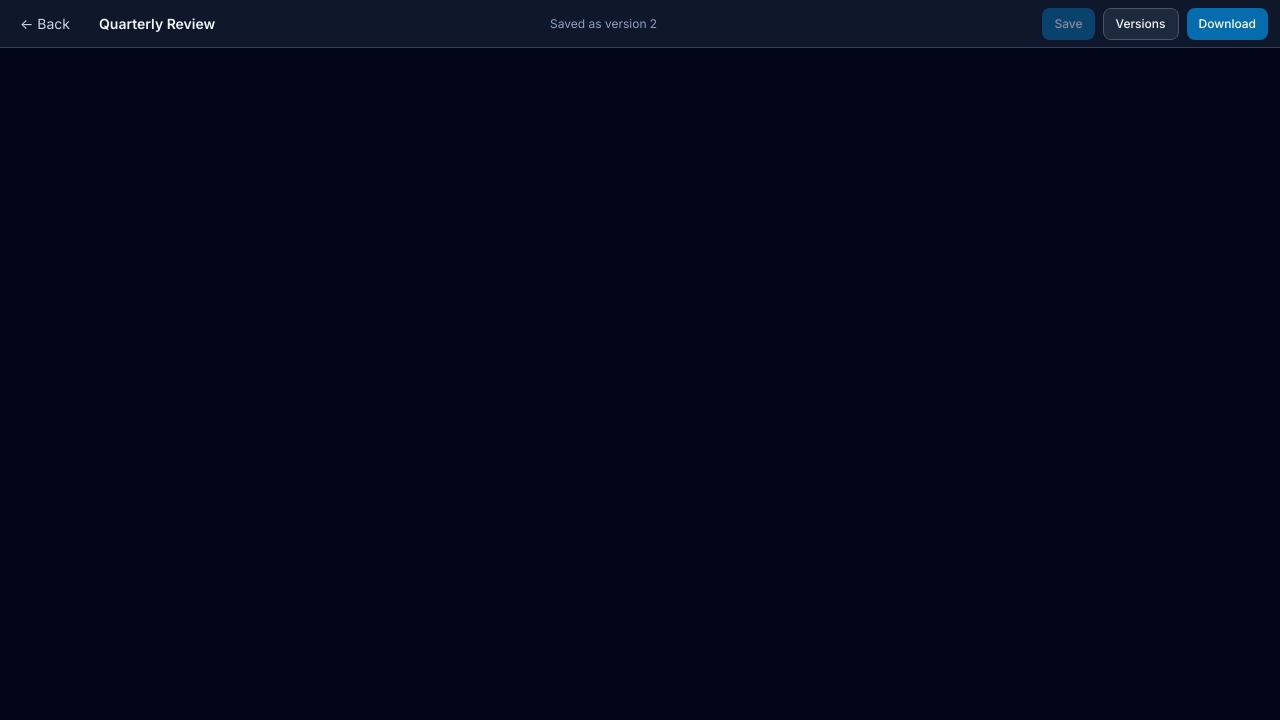
EditorPage › keeps the version dialog open and reports restore failures
The width and height of the screenshot is (1280, 720).
Click the button "Versions" at {"x": 1140, "y": 24}, box [1102,8,1178,40]
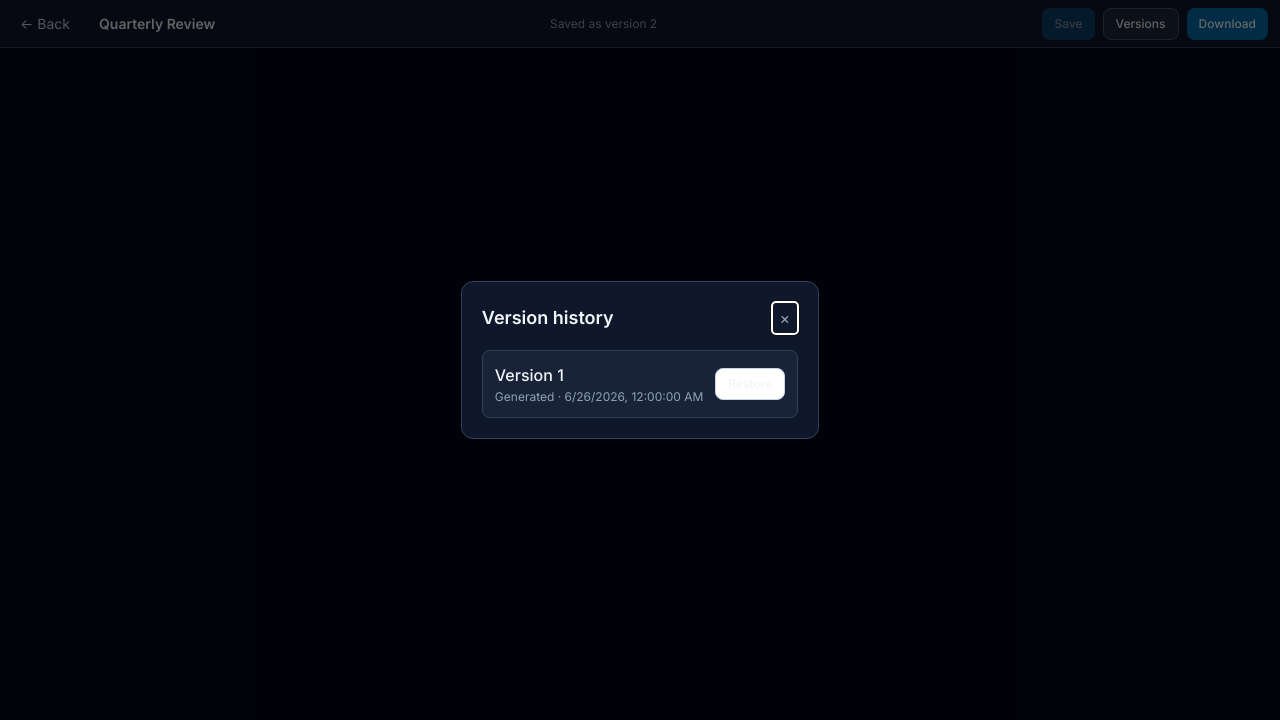
Click the button with aria-label "Restore version 1" at {"x": 750, "y": 384}, box [715,368,785,400]
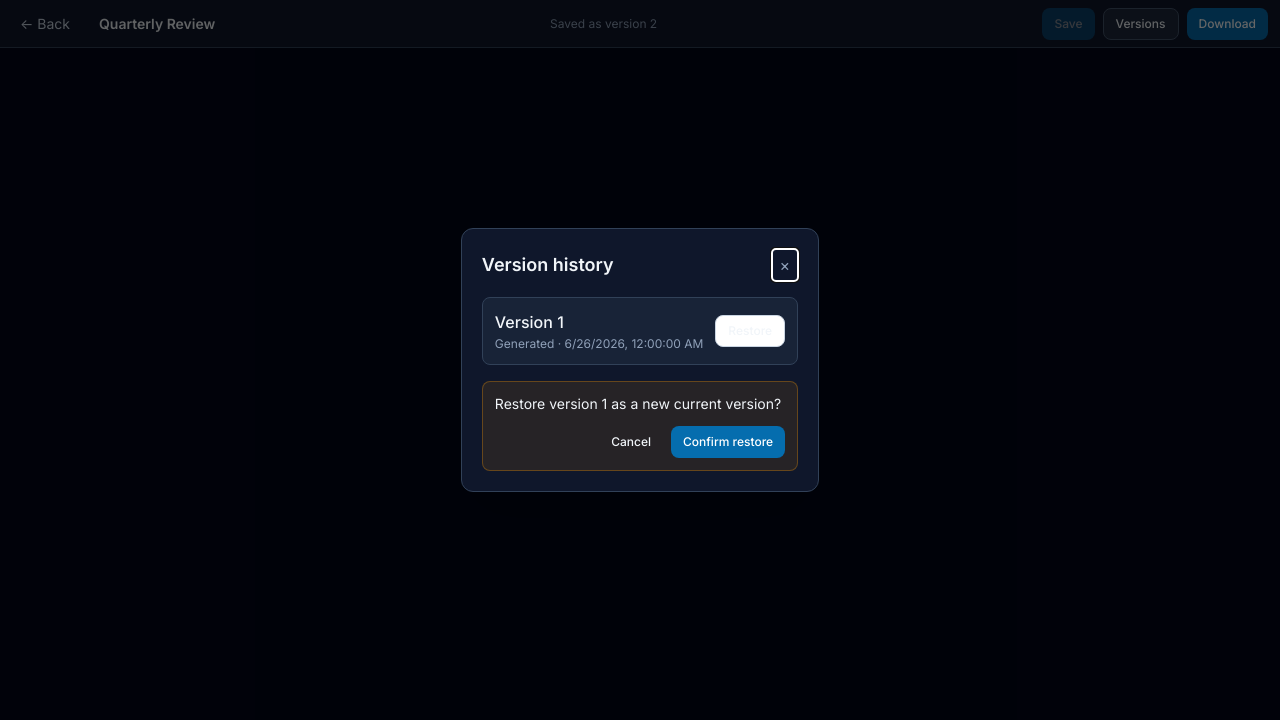
Click the button with aria-label "Confirm restore version 1" at {"x": 728, "y": 442}, box [671,426,785,458]
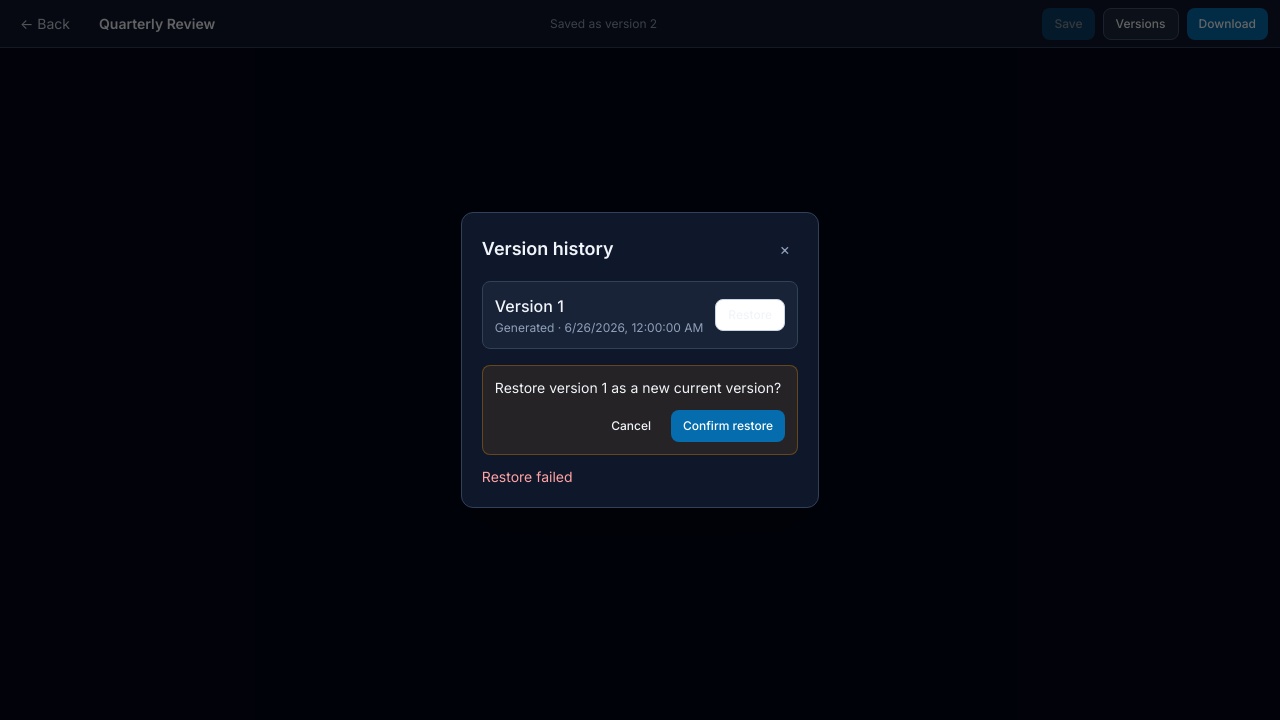
Check: the dialog "Version history" is shown, box [461,212,819,508]
Check: the text "Restore failed" is shown, box [482,468,572,485]
